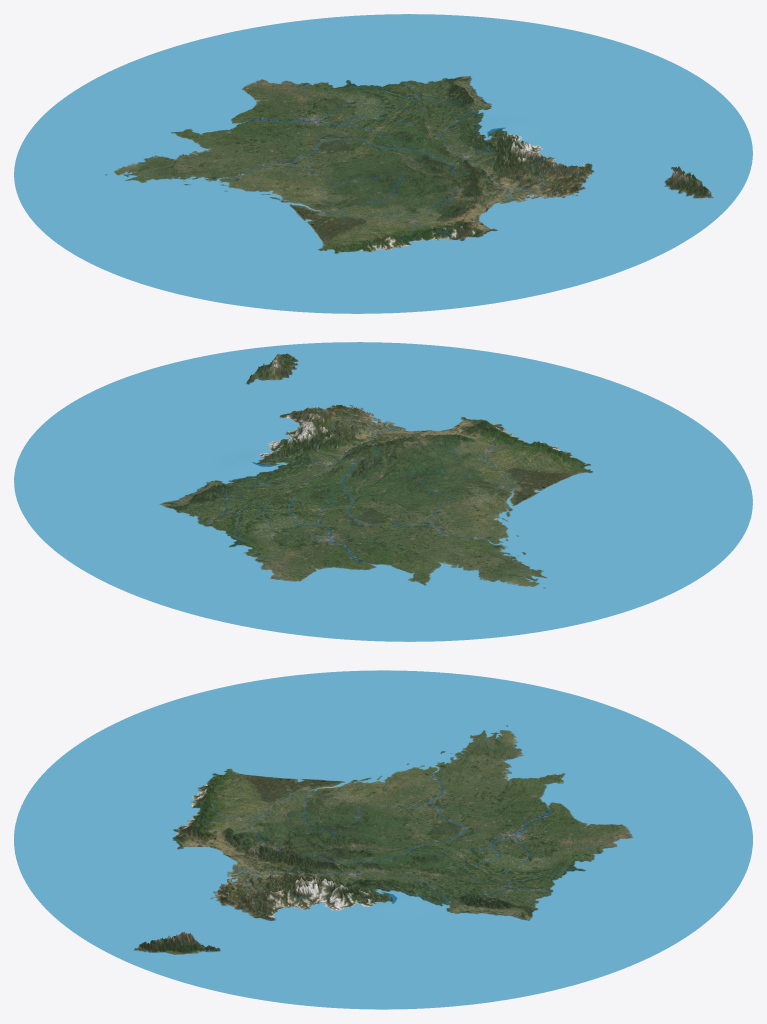
The model's file is FRA-previa-terrain.glb.
3 renders of one model, top to bottom at view 1: azimuth 30°, elevation 25°; view 2: azimuth 150°, elevation 25°; view 3: azimuth 270°, elevation 25°, orthographic. The views are drawn at different scales.
Parts seen in each view (by area): view 1: França; view 2: França; view 3: França.
Boxes of the visible parts, left/top/right/bottom form: França: left=14, top=14, right=752, bottom=313; França: left=14, top=342, right=752, bottom=641; França: left=14, top=670, right=752, bottom=1009.
Size of the model in its own units: 2.63 by 0.0555 by 2.43.
Materials: 1 (1 with a texture image).
